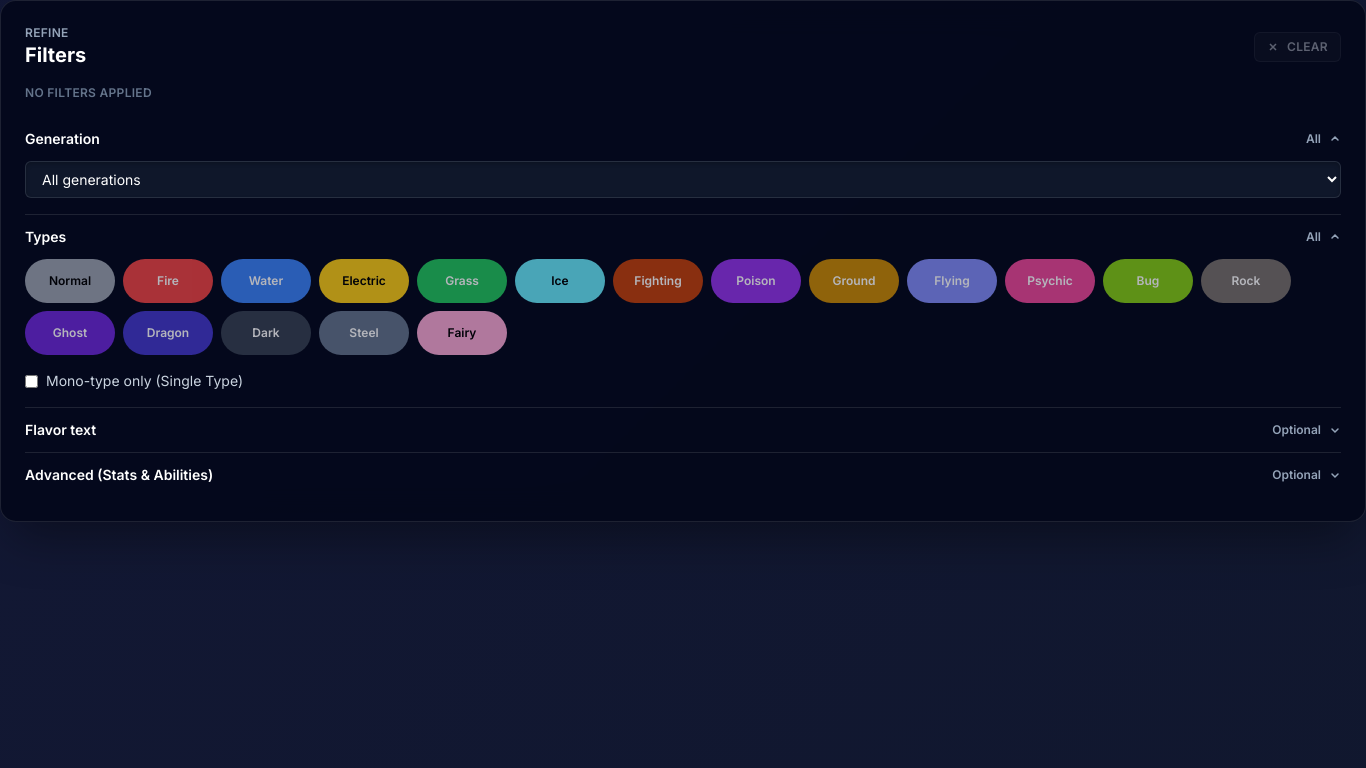
Test: FilterControls Accessibility › has accessible Ability search input
Note: Open Advanced section
Click the text "Advanced (Stats & Abilities)" at (119, 475), box [25, 465, 213, 485]
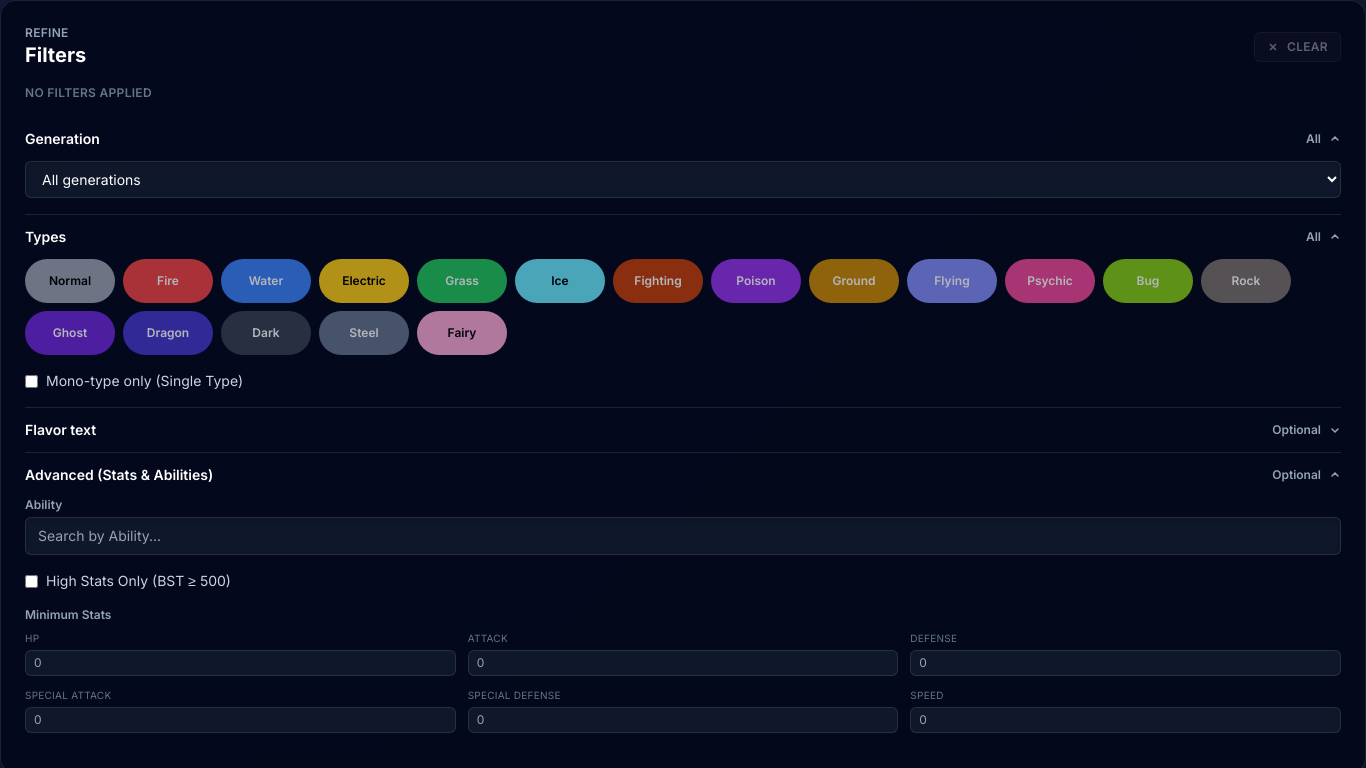
expect the field labelled "Ability" is shown: met, box [25, 517, 1341, 555]
